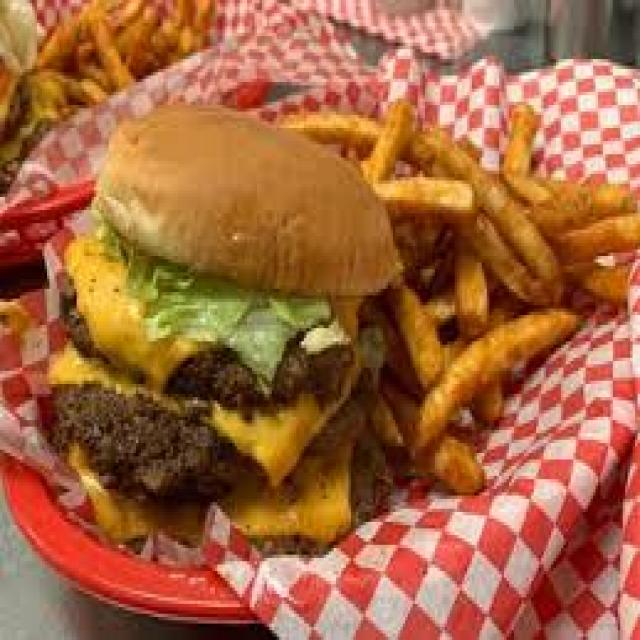Burger: (50, 98, 373, 545)
French Fries: (348, 85, 638, 492)
